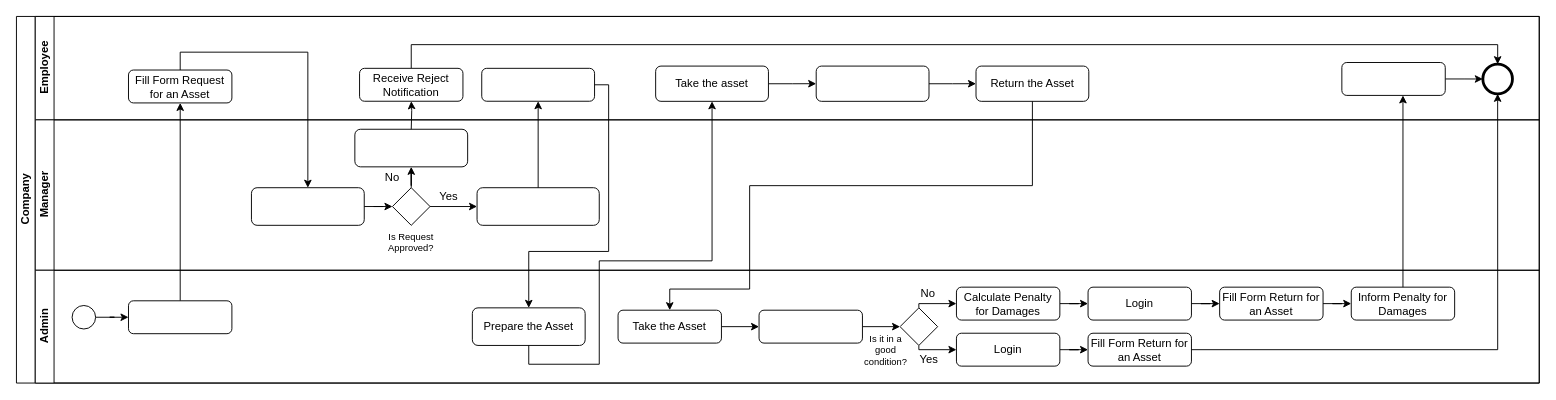
Image size: 1556x400. Some labels were removed from this diagram. The shapes that lost their labels are listed below. From the top down, each one's centre as x and y in pixels, then its label:
At [538,84]: "Receive Acceptance Notification".
At [872,83]: "Use the Asset for Some Time".
At [1393,78]: "Pay Penalty for Damages".
At [411,147]: "Inform the Rejection of Request".
At [307,206]: "Check Request".
At [537,206]: "Inform the Acceptance of Request".
At [180,317]: "Add New Item in a System".
At [810,326]: "Check Condition of the Asset".
